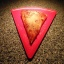pizza: (21, 11, 48, 46)
